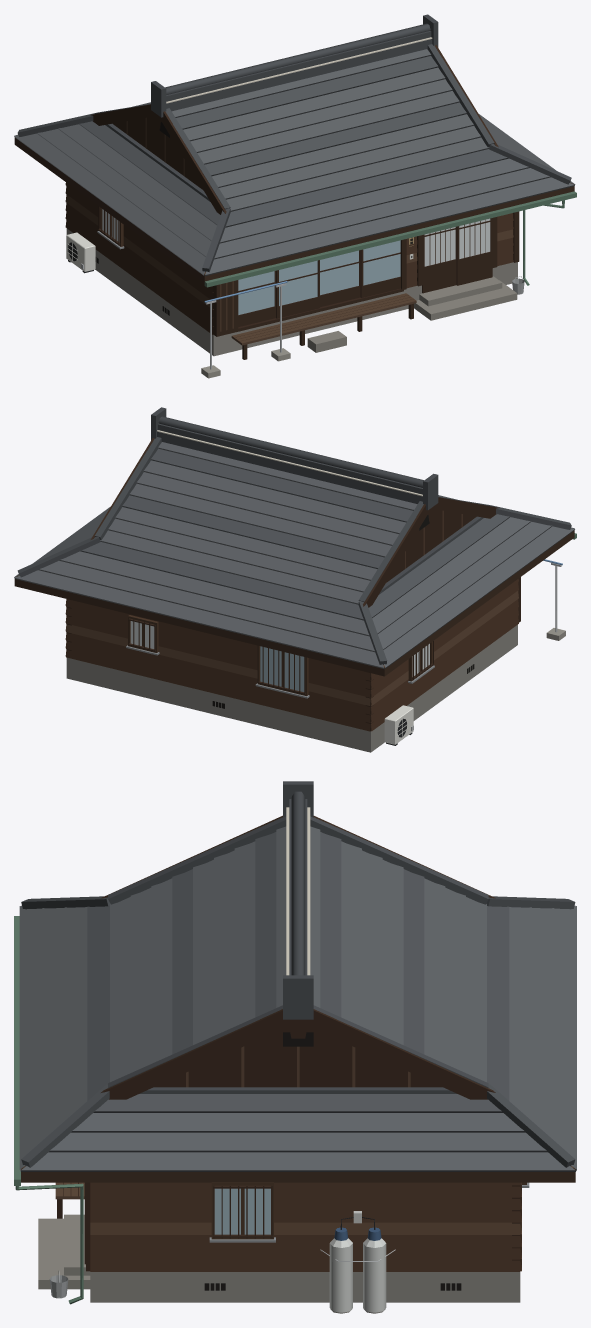
Rendered from house_old.glb.
3 renders of one model, top to bottom at view 1: azimuth 30°, elevation 25°; view 2: azimuth 150°, elevation 25°; view 3: azimuth 270°, elevation 25°, orthographic. The views are drawn at different scales.
Parts seen in each view (by area): view 1: house_old; view 2: house_old; view 3: house_old.
Boxes of the visible parts, left/top/right/bottom form: house_old: left=14, top=14, right=576, bottom=378; house_old: left=14, top=407, right=576, bottom=752; house_old: left=14, top=781, right=576, bottom=1313.
Size of the model in its own units: 9.04 by 5 by 8.12.
